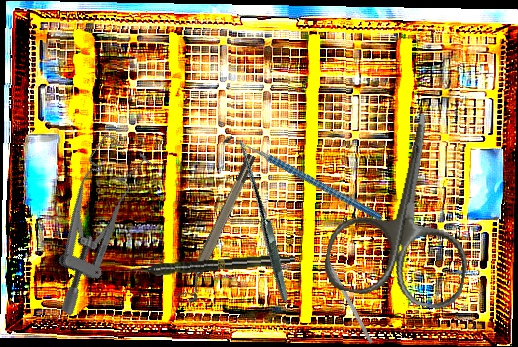Chopper: (222, 97, 384, 264), (316, 239, 379, 345)
Fixation Ring: (175, 152, 265, 305)
Handpiece: (126, 252, 296, 278)
Hook Surgical: (174, 134, 339, 302)
Iris Scissors: (320, 101, 494, 313)
Speculum: (9, 130, 171, 318)
